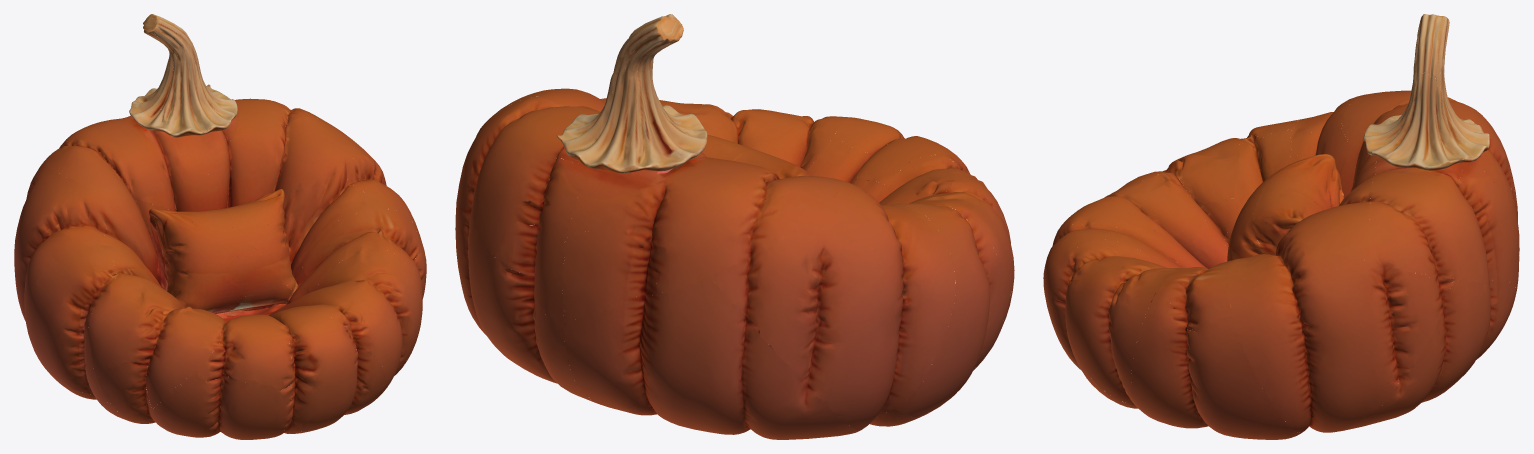
File: pumkin_been_bag.glb
The picture shows the model from 3 angles, left to right: view 1: azimuth 30°, elevation 25°; view 2: azimuth 150°, elevation 25°; view 3: azimuth 270°, elevation 25°; orthographic projection. The views are drawn at different scales.
Visible parts, largest first — view 1: tripo_node_c13e71f5-4bc6-497e-bb43-dd2d6d536180; view 2: tripo_node_c13e71f5-4bc6-497e-bb43-dd2d6d536180; view 3: tripo_node_c13e71f5-4bc6-497e-bb43-dd2d6d536180.
Part boxes in pixels (x1=…): tripo_node_c13e71f5-4bc6-497e-bb43-dd2d6d536180: x1=14, y1=14, x2=426, y2=439; tripo_node_c13e71f5-4bc6-497e-bb43-dd2d6d536180: x1=455, y1=14, x2=1014, y2=439; tripo_node_c13e71f5-4bc6-497e-bb43-dd2d6d536180: x1=1043, y1=14, x2=1519, y2=439.
Size of the model in its own units: 0.9927 by 0.8274 by 1.
1 material, 1 textured.
